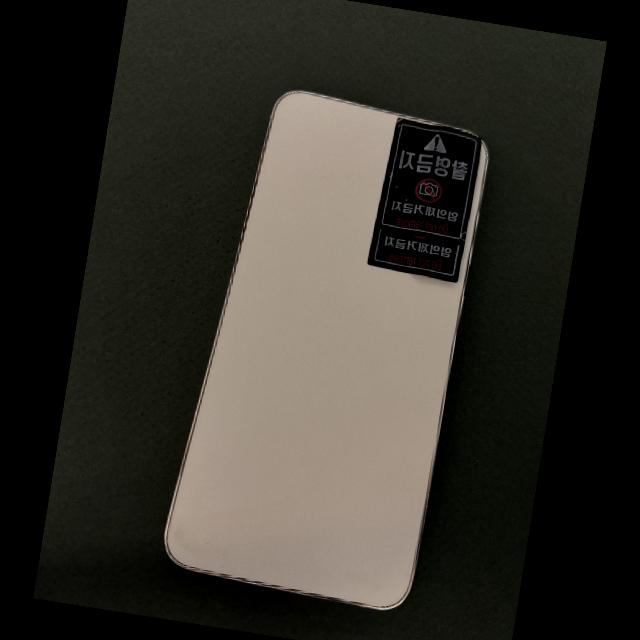phone: (165, 91, 488, 609)
sticker: (366, 116, 481, 286)
